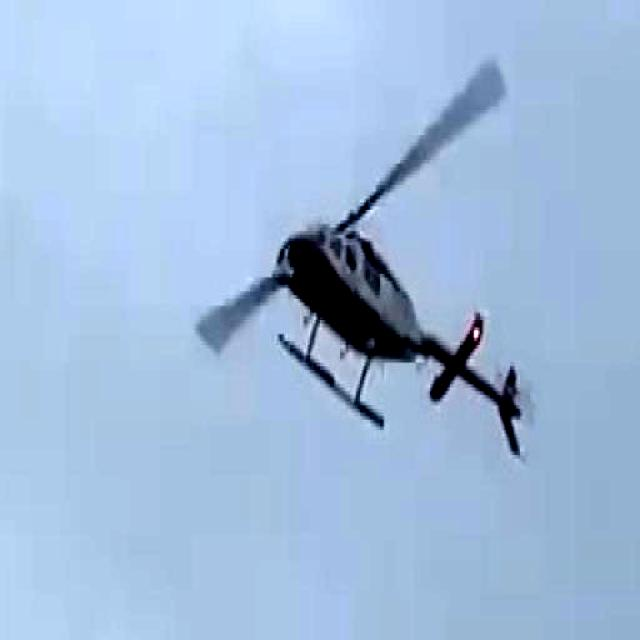drone: (190, 58, 541, 474)
